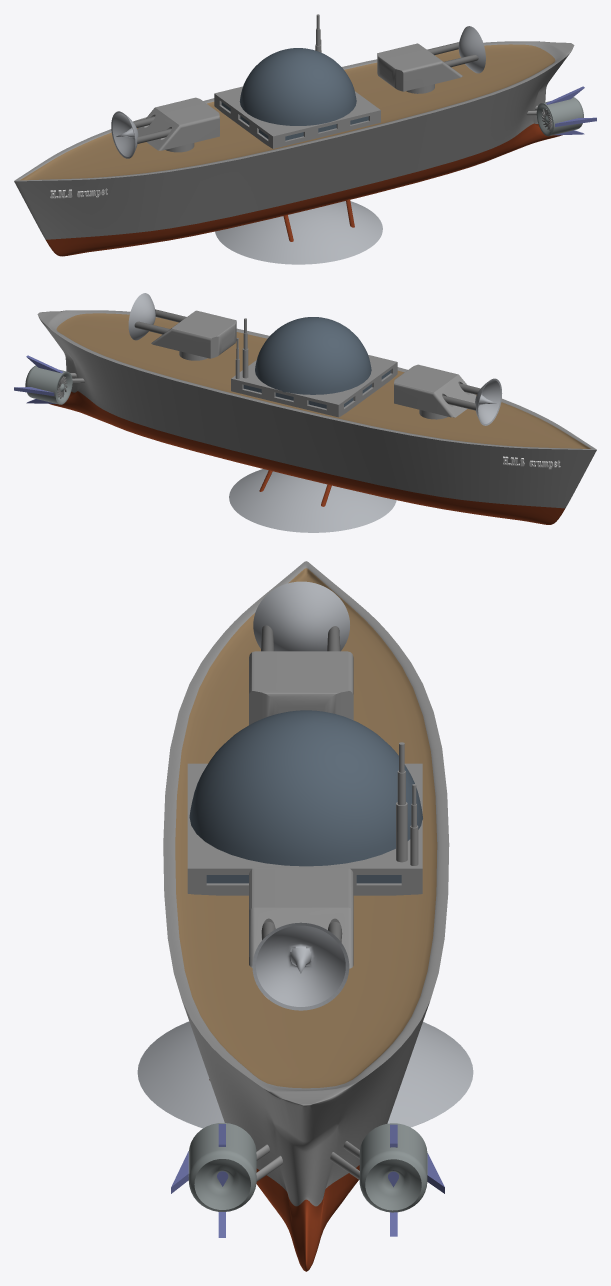
File: WW2 ship ufo.fbx
The picture shows the model from 3 angles, top to bottom: view 1: azimuth 30°, elevation 25°; view 2: azimuth 150°, elevation 25°; view 3: azimuth 270°, elevation 25°; orthographic projection. The views are drawn at different scales.
Parts seen in each view (by area): view 1: ship, pSphere1, pDisc2, pCube6 (×2), pCube15, pDisc1 (×2), pasted__big_ufo1, typeMesh4; view 2: ship, pSphere1, pDisc2, pCube6 (×2), pCube15, pDisc1 (×2), pasted__big_ufo1, typeMesh5, pCylinder8; view 3: ship, pSphere1, pCube6 (×2), pDisc1 (×2), pasted__big_ufo1 (×2), pDisc2, pCube15, pCylinder8.
Boxes of the visible parts, x1,y1,x2,y2 form: ship: [14, 41, 574, 256]; pSphere1: [239, 48, 356, 125]; pDisc2: [215, 201, 382, 264]; pCube6 (×2): [137, 43, 462, 150]; pCube15: [214, 86, 380, 148]; pDisc1 (×2): [111, 26, 485, 158]; pasted__big_ufo1: [536, 86, 596, 136]; typeMesh4: [50, 188, 107, 198]; ship: [37, 310, 596, 524]; pSphere1: [255, 317, 371, 394]; pDisc2: [229, 469, 396, 532]; pCube6 (×2): [151, 310, 476, 417]; pCube15: [231, 355, 397, 417]; pDisc1 (×2): [128, 293, 502, 425]; pasted__big_ufo1: [14, 355, 72, 404]; typeMesh5: [503, 456, 560, 469]; pCylinder8: [242, 318, 248, 378]; ship: [163, 561, 449, 1271]; pSphere1: [189, 710, 422, 866]; pCube6 (×2): [249, 651, 353, 968]; pDisc1 (×2): [252, 581, 349, 1010]; pasted__big_ufo1 (×2): [171, 1123, 444, 1237]; pDisc2: [137, 1021, 473, 1128]; pCube15: [187, 763, 422, 895]; pCylinder8: [396, 742, 407, 862].
Bounding box in the file's own units: 28.69 × 9.83 × 7.47.
